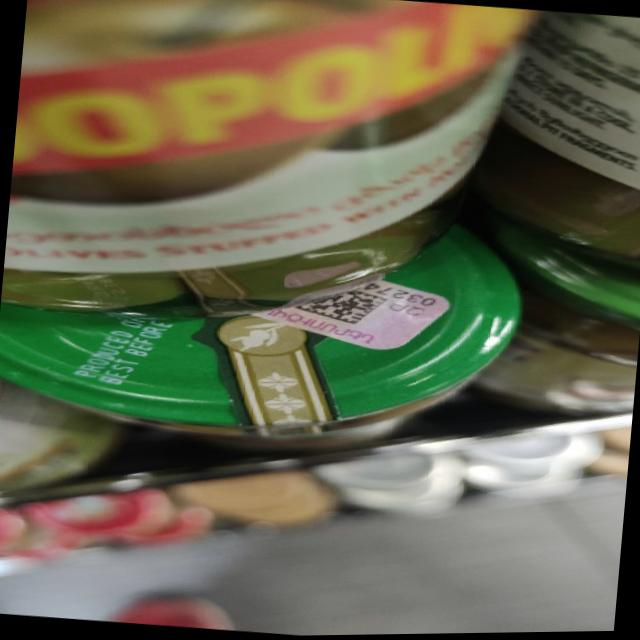datamatrix: (292, 285, 394, 331)
